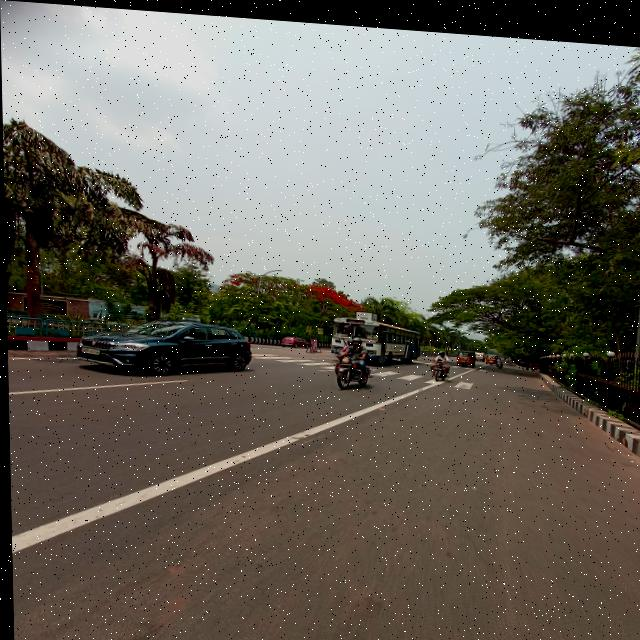bike: (328, 348, 389, 389), (429, 353, 451, 378)
bus: (322, 308, 425, 359)
car: (67, 309, 261, 378)
